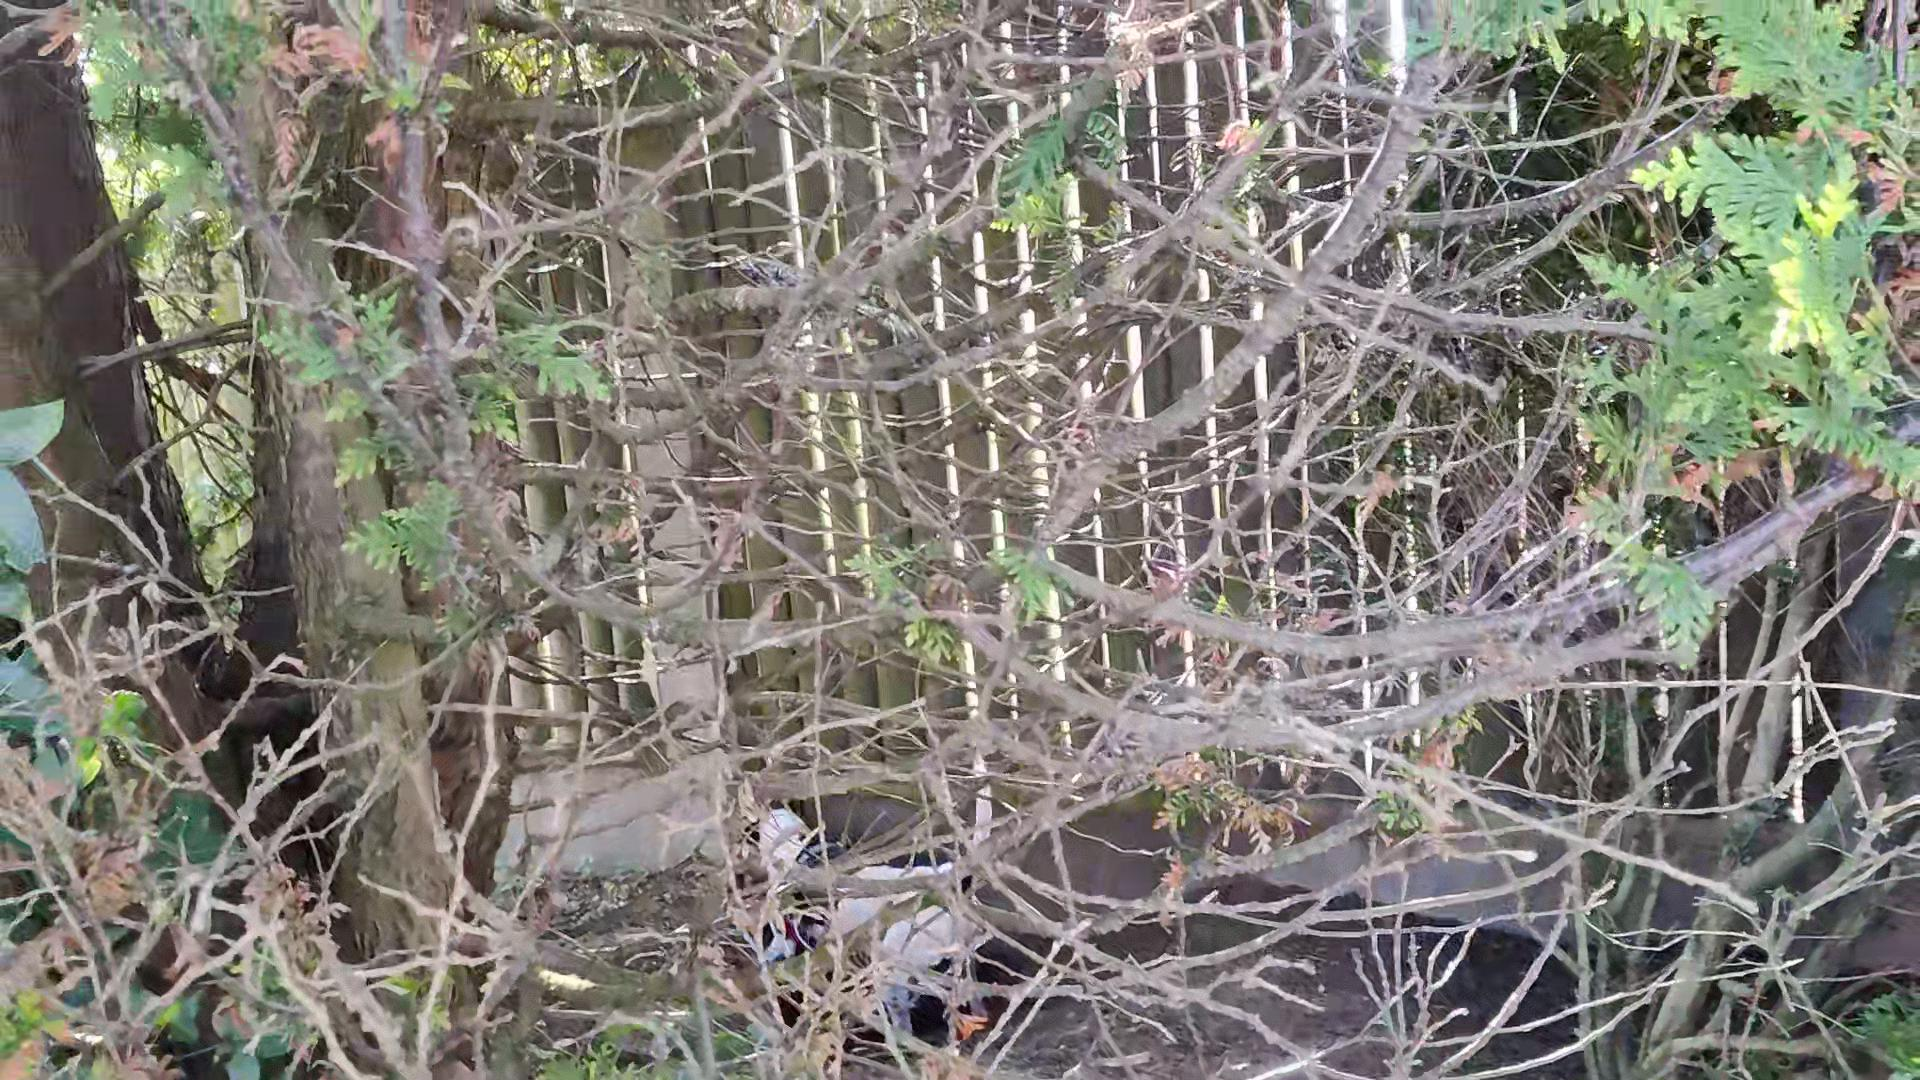Dog: (737, 731, 1002, 1052)
